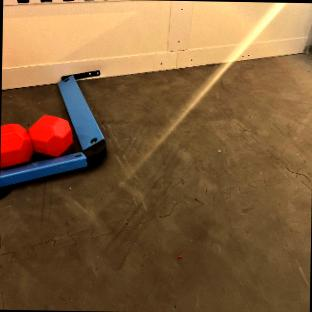V5_RED: (0, 115, 72, 169)
